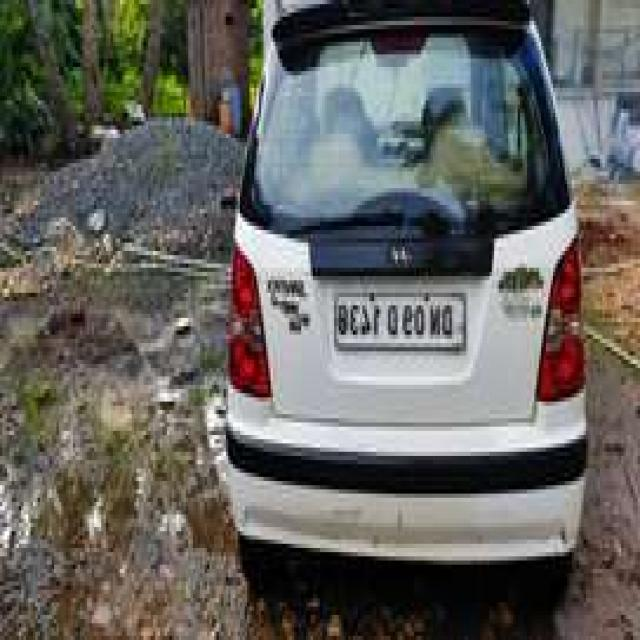license_plate: (331, 288, 470, 356)
